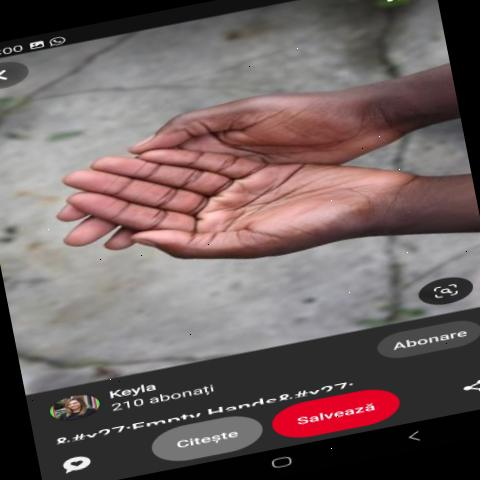hands: (26, 31, 447, 360)
